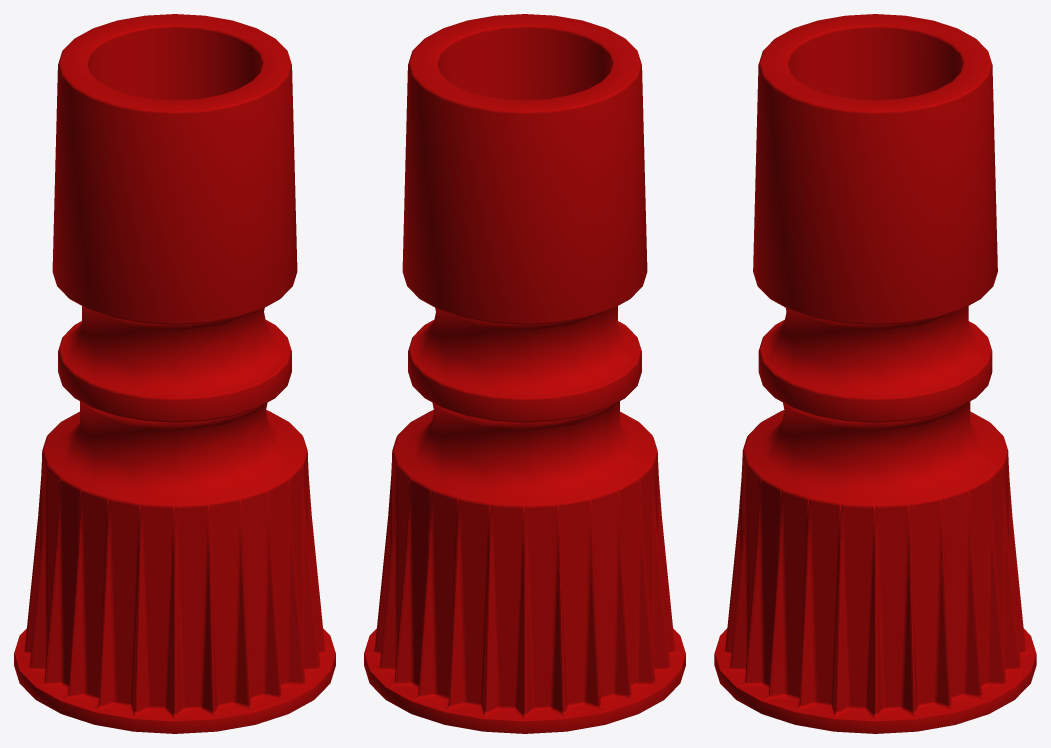
The model's file is Model - Plastic - Star - Double - 1.5in.fbx.
3 renders of one model, left to right at view 1: azimuth 30°, elevation 25°; view 2: azimuth 150°, elevation 25°; view 3: azimuth 270°, elevation 25°, orthographic.
Visible parts, largest first — view 1: Post - Plastic - Star - Double - 1 1/2"; view 2: Post - Plastic - Star - Double - 1 1/2"; view 3: Post - Plastic - Star - Double - 1 1/2".
Part boxes in pixels (x1,y1,x2,y2): Post - Plastic - Star - Double - 1 1/2": (14,14,335,733); Post - Plastic - Star - Double - 1 1/2": (364,14,685,733); Post - Plastic - Star - Double - 1 1/2": (714,14,1036,733).
Bounding box in the file's own units: 1.84 × 3.81 × 1.84.
